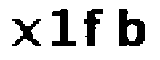1: (45, 7, 79, 51)
b: (115, 6, 149, 50)
f: (81, 6, 108, 52)
x: (8, 16, 41, 51)
